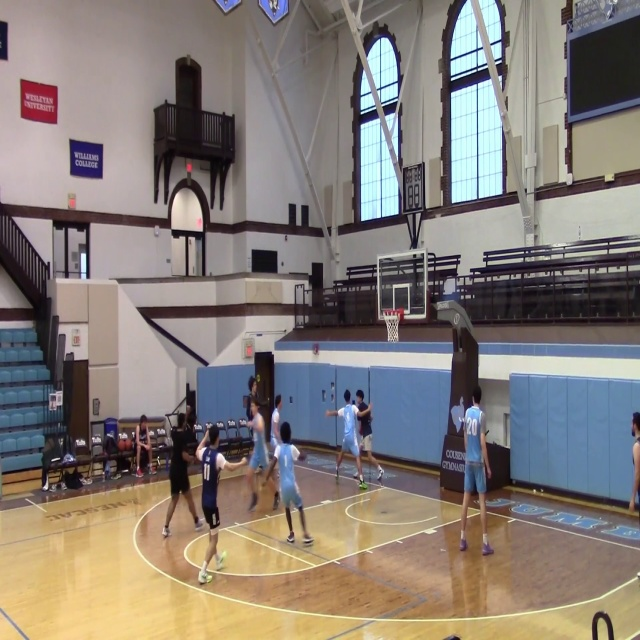Basketball: (117, 432, 132, 450), (117, 439, 132, 450), (298, 454, 307, 461)
